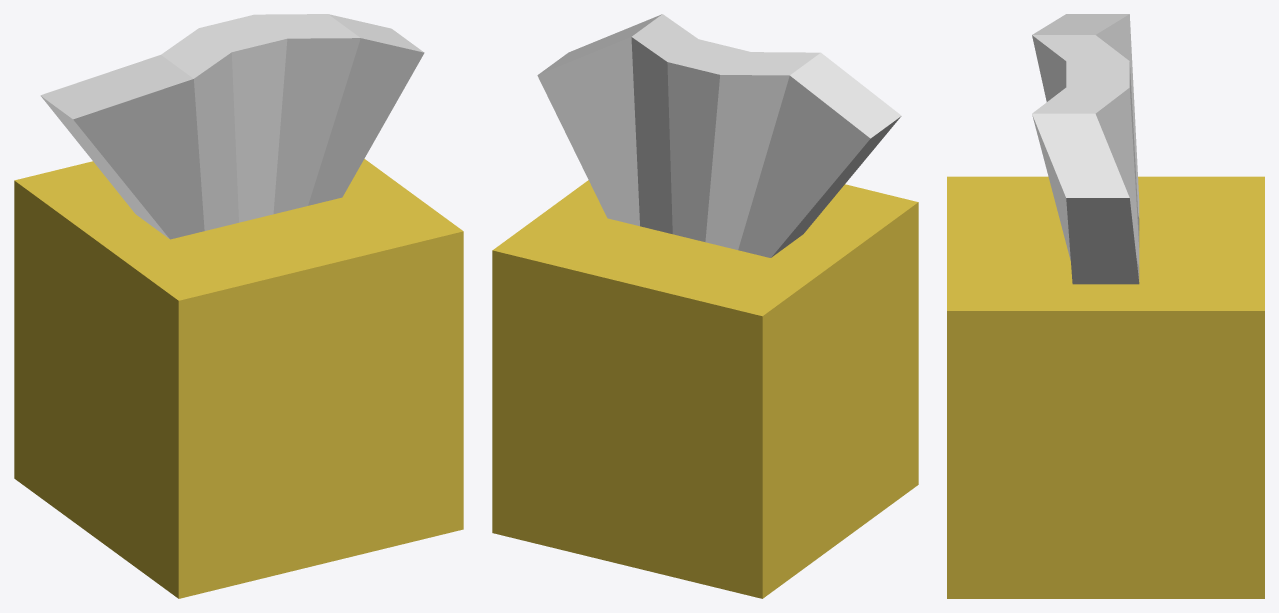
The model's file is tissueBox.fbx.
The picture shows the model from 3 angles, left to right: view 1: azimuth 30°, elevation 25°; view 2: azimuth 150°, elevation 25°; view 3: azimuth 270°, elevation 25°; orthographic projection. The views are drawn at different scales.
Parts seen in each view (by area): view 1: Tissue Box; view 2: Tissue Box; view 3: Tissue Box.
Part boxes in pixels (x1=…): Tissue Box: x1=14, y1=14, x2=463, y2=598; Tissue Box: x1=492, y1=14, x2=918, y2=598; Tissue Box: x1=947, y1=14, x2=1264, y2=598.
Bounding box in the file's own units: 40.27 × 32.63 × 51.84.
